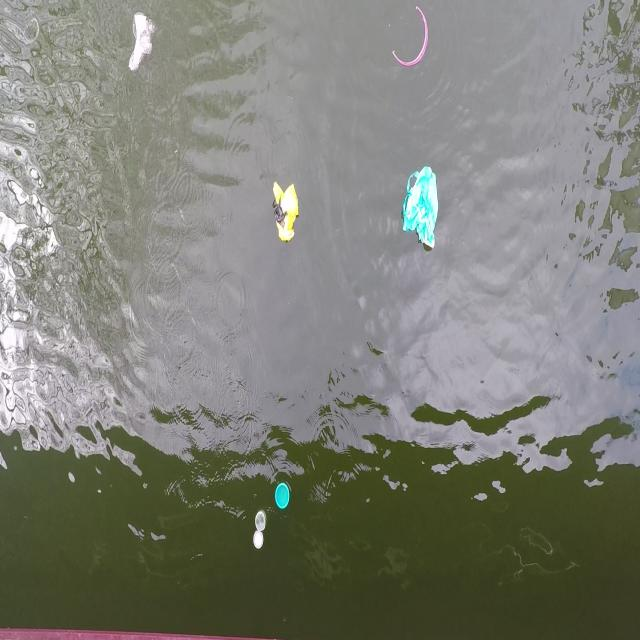Bouteille plastique: (255, 506, 268, 531)
Sac plastique: (402, 163, 442, 257), (270, 178, 302, 250)
